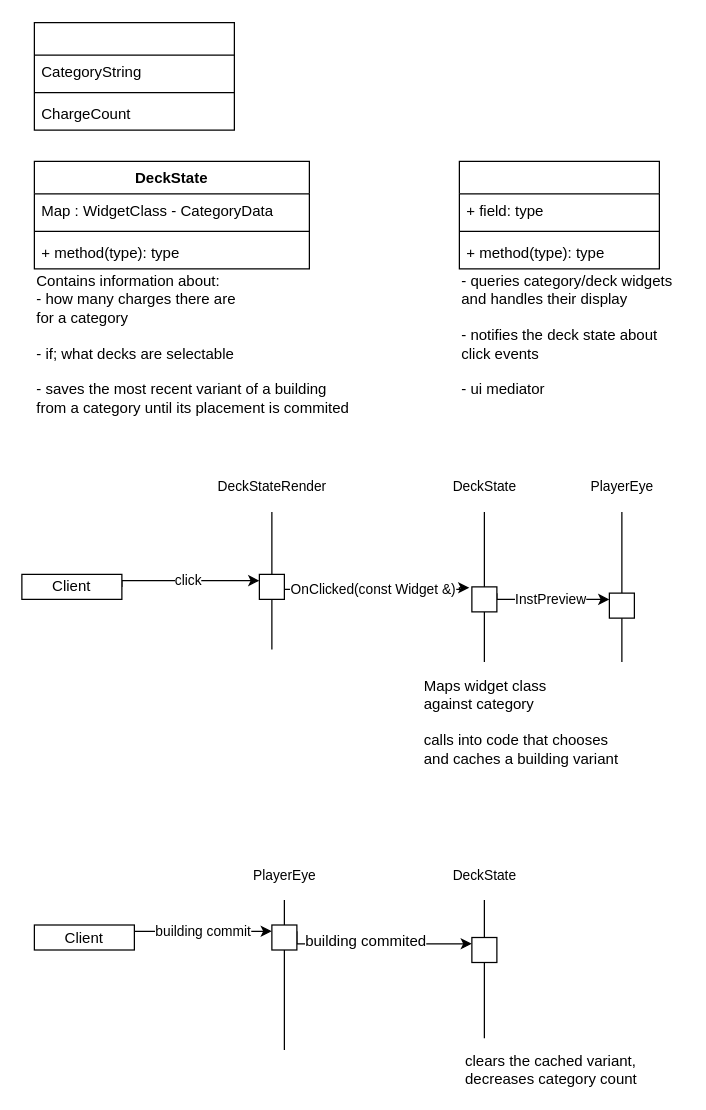
Image size: 706x1110. Some labels were removed from this diagram. Each missing label, with the box of its shape:
DeckStateRenderer: (458, 160, 659, 269)
FCategoryData: (33, 21, 234, 130)
